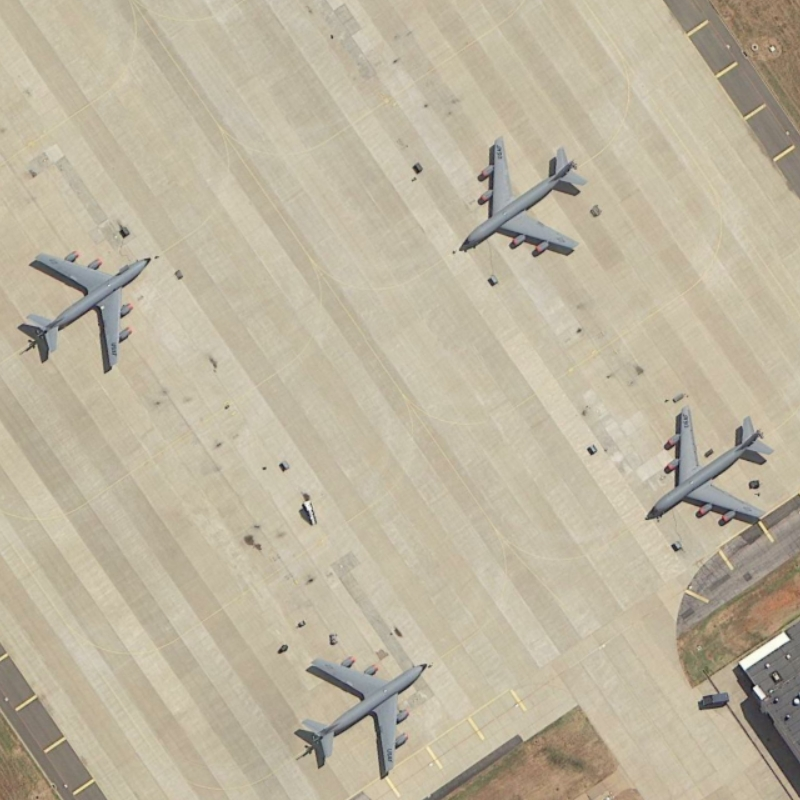A14: (17, 245, 165, 378), (298, 644, 432, 781), (454, 132, 591, 261), (643, 400, 773, 534)
